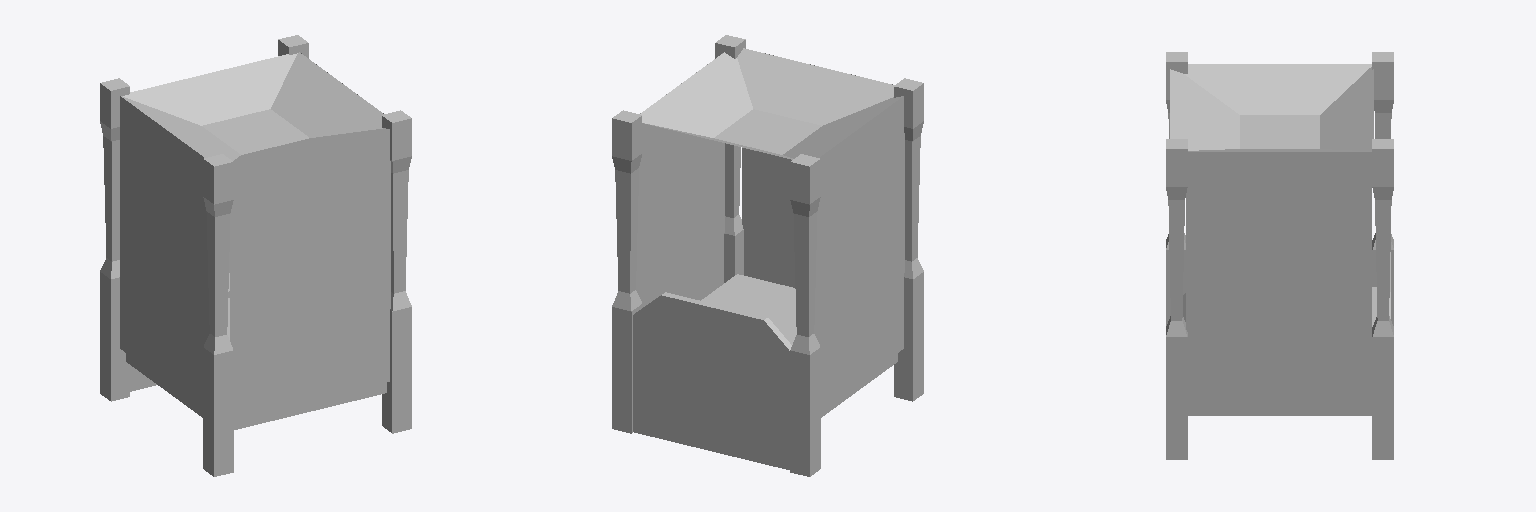
The model's file is hcmwbedcanopy.obj.
3 renders of one model, left to right at view 1: azimuth 30°, elevation 25°; view 2: azimuth 150°, elevation 25°; view 3: azimuth 270°, elevation 25°, orthographic.
Parts seen in each view (by area): view 1: pbed_cloth_front1, pbed_cloth_left1, pbed_cloth_top1, pbed_cloth_front2, pbed_post_fl, pbed_cloth_left2, pbed_post_fr, pbed_back_bl, pbed_cloth_top2, pbed_base, pbed_post_br; view 2: pbed_backboard, pbed_cloth_left1, pbed_cloth_top1, pbed_cloth_right1, pbed_back_bl, pbed_post_br, pbed_cloth_left2, pbed_post_fl, pbed_cloth_top2, pbed_cloth_right2, pbed_cloth_front1, pbed_mattress (+3 smaller); view 3: pbed_cloth_right1, pbed_cloth_right2, pbed_cloth_top1, pbed_post_br, pbed_post_fr, pbed_cloth_top2, pbed_base, pbed_back_bl, pbed_post_fl.
Part boxes in pixels (x1,y1,x2,y2): pbed_cloth_front1: (230,129,390,418); pbed_cloth_left1: (120,96,209,408); pbed_cloth_top1: (122,53,386,166); pbed_cloth_front2: (230,129,390,418); pbed_post_fl: (203,154,233,476); pbed_cloth_left2: (120,97,208,406); pbed_post_fr: (382,110,411,433); pbed_back_bl: (100,78,129,401); pbed_cloth_top2: (121,52,384,165); pbed_base: (126,353,386,429); pbed_post_br: (278,35,308,58); pbed_backboard: (633,292,791,469); pbed_cloth_left1: (814,98,904,407); pbed_cloth_top1: (640,48,902,159); pbed_cloth_right1: (636,53,724,306); pbed_back_bl: (790,154,820,476); pbed_post_br: (612,110,641,433); pbed_cloth_left2: (814,96,904,408); pbed_post_fl: (894,78,923,401); pbed_cloth_top2: (641,48,898,159); pbed_cloth_right2: (636,64,724,307); pbed_cloth_front1: (742,53,855,287); pbed_mattress: (701,274,796,344); pbed_cloth_right1: (1186,152,1371,403); pbed_cloth_right2: (1186,152,1371,403); pbed_cloth_top1: (1170,64,1373,151); pbed_post_br: (1372,139,1393,459); pbed_post_fr: (1166,139,1187,459); pbed_cloth_top2: (1170,64,1373,151); pbed_base: (1188,404,1371,415); pbed_back_bl: (1372,52,1393,325); pbed_post_fl: (1166,52,1187,325).
Size of the model in its own units: 2 by 3 by 2.